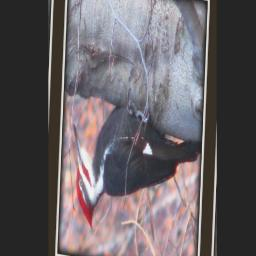Woodpecker: (69, 77, 204, 248)
